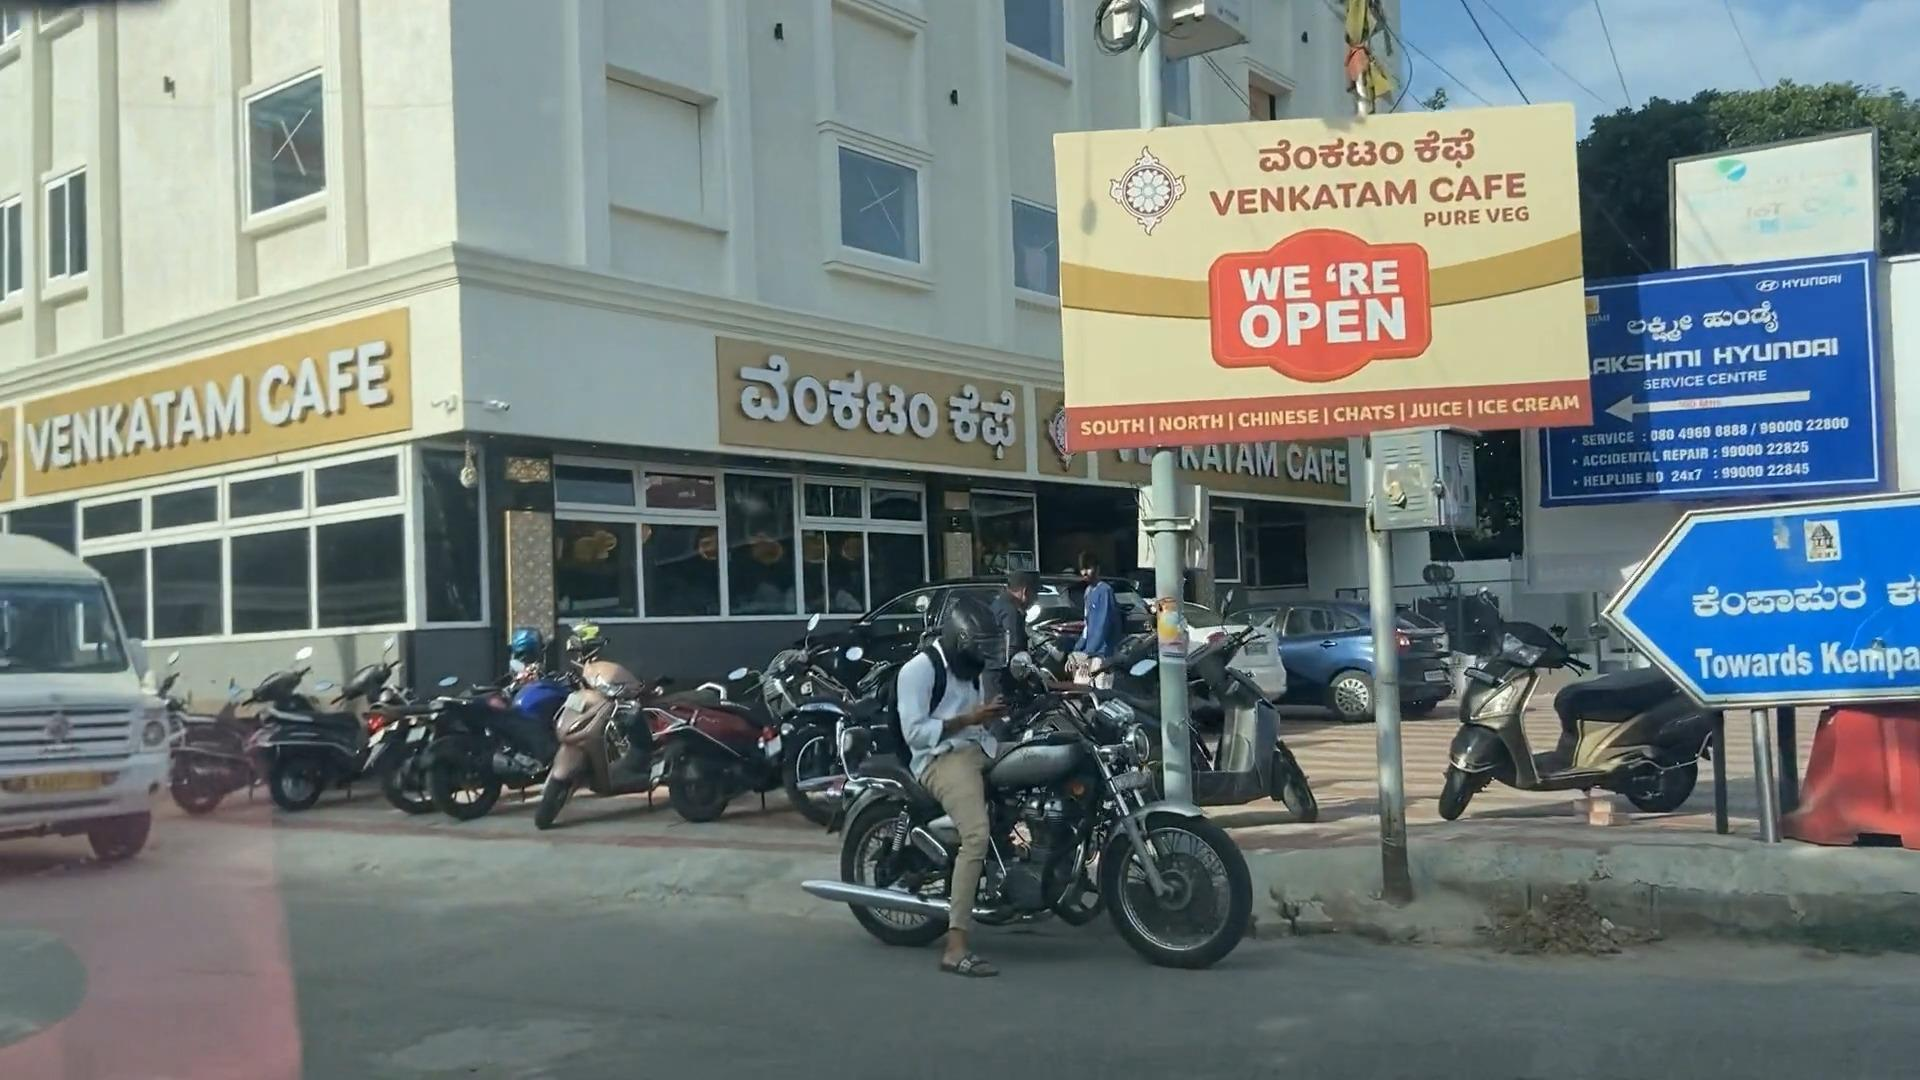LMV: (833, 620, 1160, 935), (285, 657, 382, 818), (538, 659, 625, 822)
RoadDamages: (357, 1006, 609, 1080)
